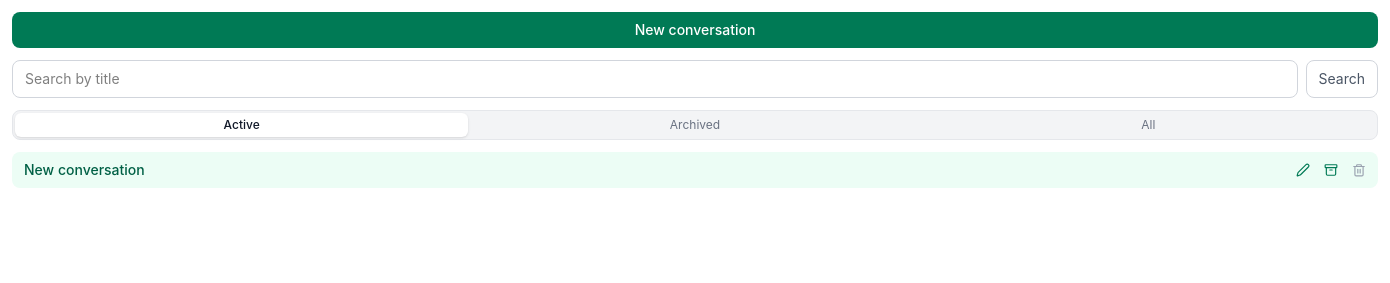
Test case: ConversationList 기본 제목의 표시 언어 › 영문 화면에서 기본 제목 이름 변경을 열면 입력 초기값은 New conversation이다
Check: the 2nd button "New conversation" is shown, box 12,152 -> 1290,188
Click the button named "Rename" at (1303, 170), box 1290,157 -> 1316,183
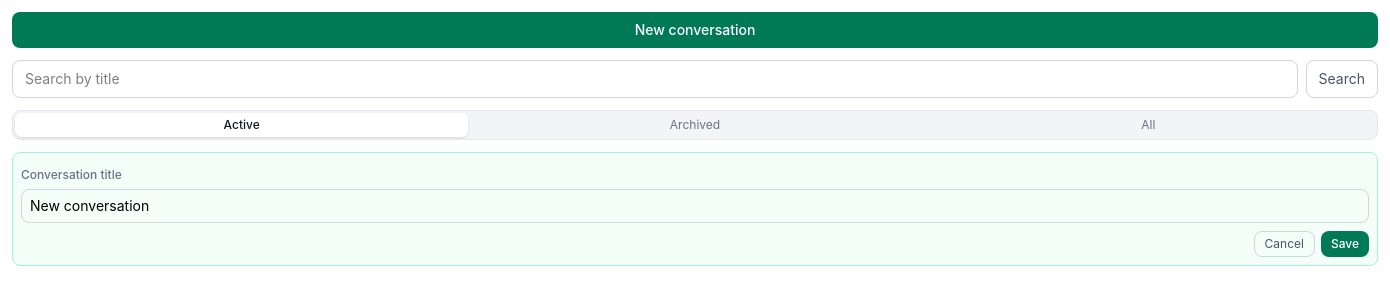
Check: the field labelled "Conversation title" holds "New conversation", box 21,189 -> 1369,223
